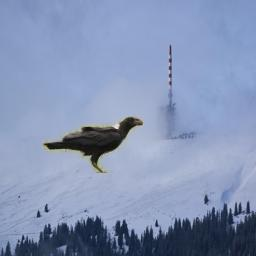Crow: (42, 116, 144, 173)
